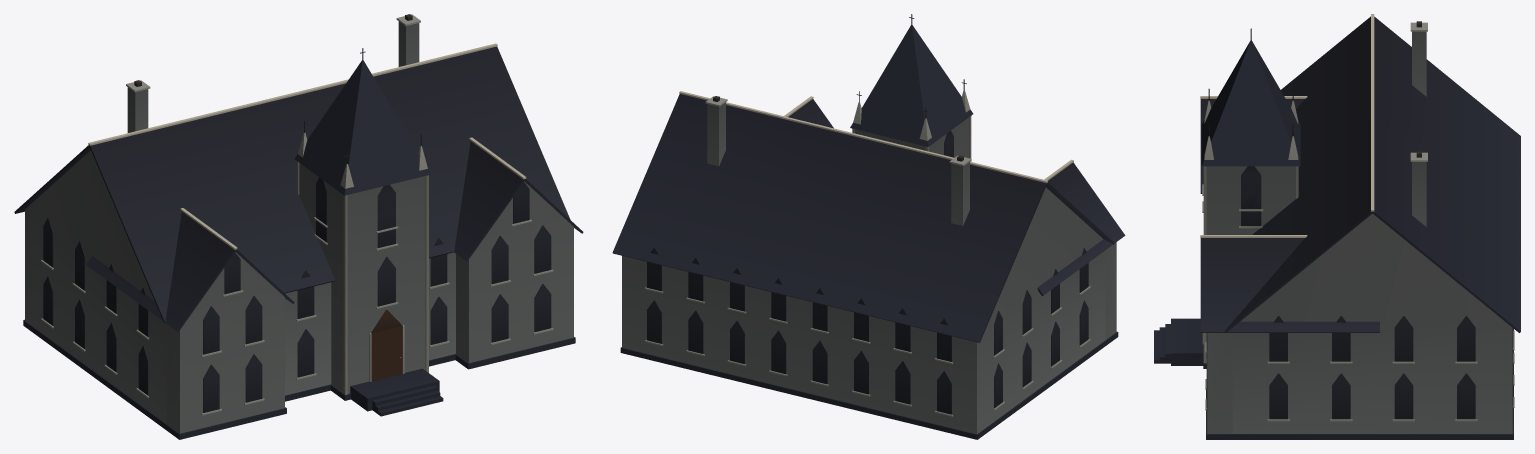
File: shell_mausoleum_ravenspire.glb
3 views of the same model, side by side, from view 1: azimuth 30°, elevation 25°; view 2: azimuth 150°, elevation 25°; view 3: azimuth 270°, elevation 25° (orthographic). The views are drawn at different scales.
Visible parts, largest first — view 1: shell_mausoleum_ravenspire; view 2: shell_mausoleum_ravenspire; view 3: shell_mausoleum_ravenspire.
Boxes of the visible parts, bbox=[...] form: shell_mausoleum_ravenspire: bbox=[14, 14, 583, 439]; shell_mausoleum_ravenspire: bbox=[612, 14, 1125, 439]; shell_mausoleum_ravenspire: bbox=[1154, 14, 1520, 439].
Size of the model in its own units: 24.84 by 18.9 by 19.64.
